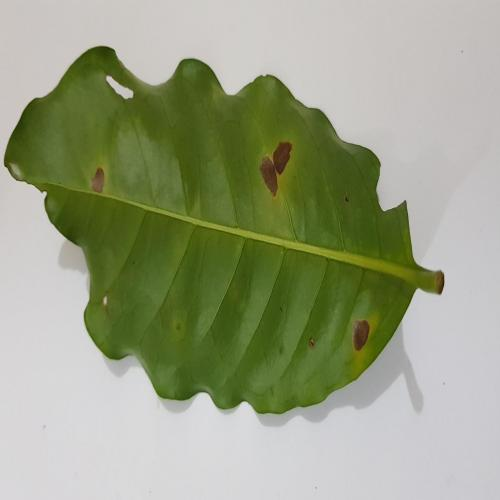cercospora: (260, 141, 293, 202)
